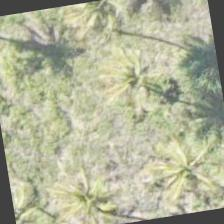Kelapa_Sawit: (90, 28, 192, 130), (112, 123, 216, 223), (25, 154, 126, 223), (54, 0, 152, 58)
